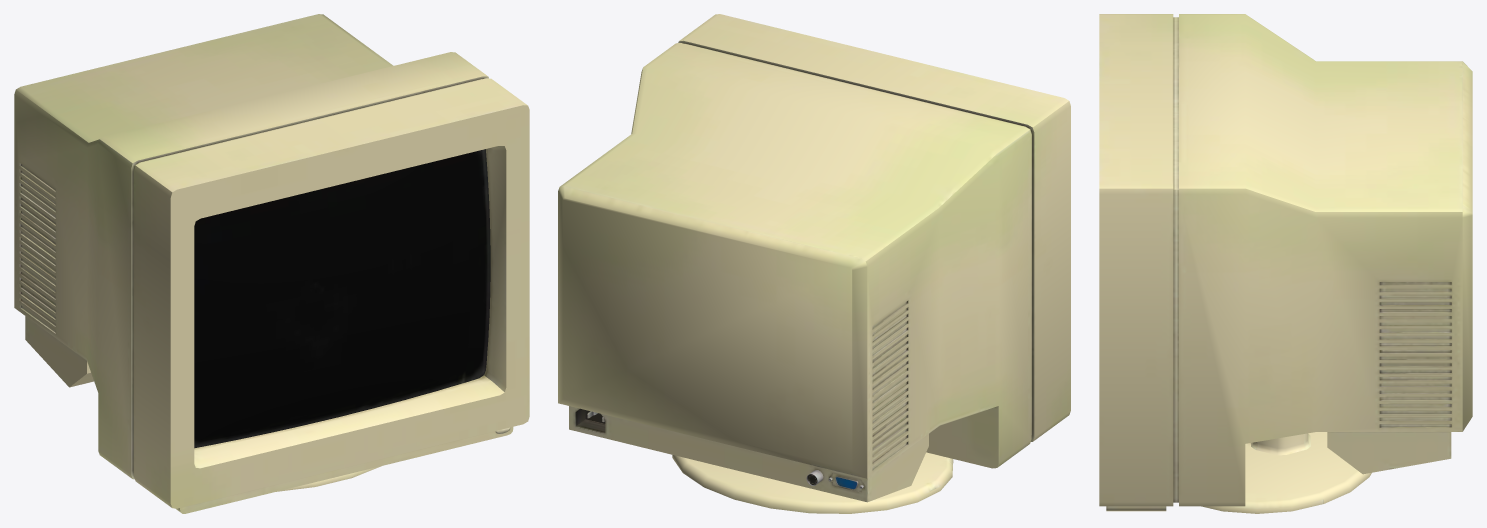
The model's file is monitor-crt.glb.
The picture shows the model from 3 angles, left to right: view 1: azimuth 30°, elevation 25°; view 2: azimuth 150°, elevation 25°; view 3: azimuth 270°, elevation 25°; orthographic projection.
Parts seen in each view (by area): view 1: Box001; view 2: Box001; view 3: Box001.
Boxes of the visible parts, left/top/right/bottom form: Box001: left=14, top=14, right=529, bottom=513; Box001: left=558, top=14, right=1070, bottom=513; Box001: left=1099, top=14, right=1472, bottom=513.
Size of the model in its own units: 0.431 by 0.4 by 0.386.
Materials: 1 (1 with a texture image).
